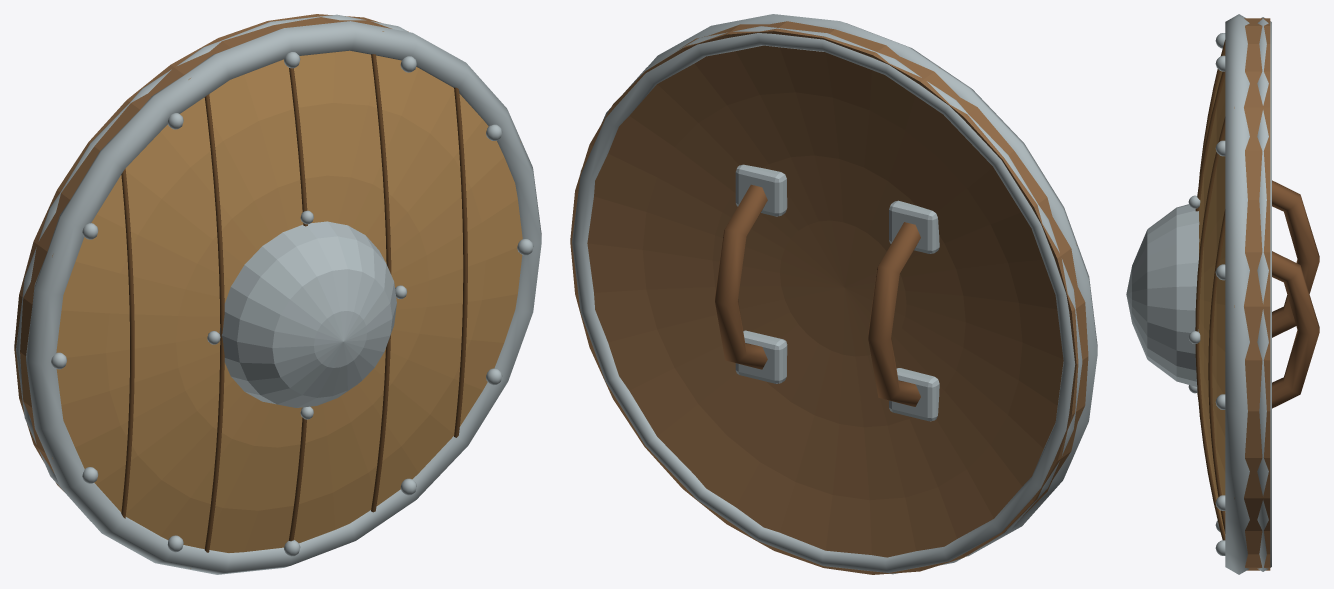
Rendered from shield_round.glb.
3 views of the same model, side by side, from view 1: azimuth 30°, elevation 25°; view 2: azimuth 150°, elevation 25°; view 3: azimuth 270°, elevation 25° (orthographic). The views are drawn at different scales.
Visible parts, largest first — view 1: Round curved wooden shield, Round shield front iron rim, Round shield domed central boss, Round shield rear iron rim, Round shield plank groove.001, Round shield plank groove.003, Round shield plank groove.004, Round shield plank groove, Round shield plank groove.002; view 2: Round curved wooden shield, Round shield rear iron rim, Round shield front iron rim, Round shield rear leather grip.001, Round shield rear leather grip, Round shield grip mounting plate.003, Round shield grip mounting plate.001, Round shield grip mounting plate.002, Round shield grip mounting plate; view 3: Round curved wooden shield, Round shield front iron rim, Round shield domed central boss, Round shield rear iron rim, Round shield rear leather grip.001, Round shield rear leather grip, Round shield plank groove.003, Round shield plank groove.004, Round shield plank groove.002, Round shield plank groove.001.
Boxes of the visible parts, bbox=[...] form: Round curved wooden shield: bbox=[14, 14, 522, 568]; Round shield front iron rim: bbox=[26, 21, 541, 574]; Round shield domed central boss: bbox=[219, 221, 396, 407]; Round shield rear iron rim: bbox=[16, 14, 408, 521]; Round shield plank groove.001: bbox=[204, 94, 224, 552]; Round shield plank groove.003: bbox=[371, 54, 391, 512]; Round shield plank groove.004: bbox=[454, 87, 467, 437]; Round shield plank groove: bbox=[121, 168, 134, 518]; Round shield plank groove.002: bbox=[288, 68, 307, 541]; Round curved wooden shield: bbox=[570, 21, 1088, 574]; Round shield rear iron rim: bbox=[572, 26, 1082, 574]; Round shield front iron rim: bbox=[648, 14, 1097, 556]; Round shield rear leather grip.001: bbox=[715, 184, 767, 369]; Round shield rear leather grip: bbox=[868, 222, 920, 406]; Round shield grip mounting plate.003: bbox=[735, 164, 787, 216]; Round shield grip mounting plate.001: bbox=[889, 200, 939, 253]; Round shield grip mounting plate.002: bbox=[735, 330, 787, 383]; Round shield grip mounting plate: bbox=[889, 368, 939, 421]; Round curved wooden shield: bbox=[1199, 18, 1270, 570]; Round shield front iron rim: bbox=[1225, 14, 1249, 574]; Round shield domed central boss: bbox=[1126, 204, 1199, 386]; Round shield rear iron rim: bbox=[1257, 17, 1271, 571]; Round shield rear leather grip.001: bbox=[1272, 251, 1319, 408]; Round shield rear leather grip: bbox=[1272, 180, 1319, 337]; Round shield plank groove.003: bbox=[1195, 116, 1225, 540]; Round shield plank groove.004: bbox=[1208, 209, 1225, 533]; Round shield plank groove.002: bbox=[1195, 71, 1225, 399]; Round shield plank groove.001: bbox=[1198, 40, 1225, 183].
Size of the model in its own units: 0.774 by 0.774 by 0.2657.
